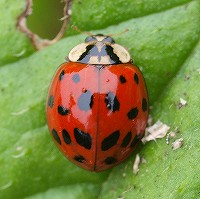Red: (45, 33, 148, 172)
